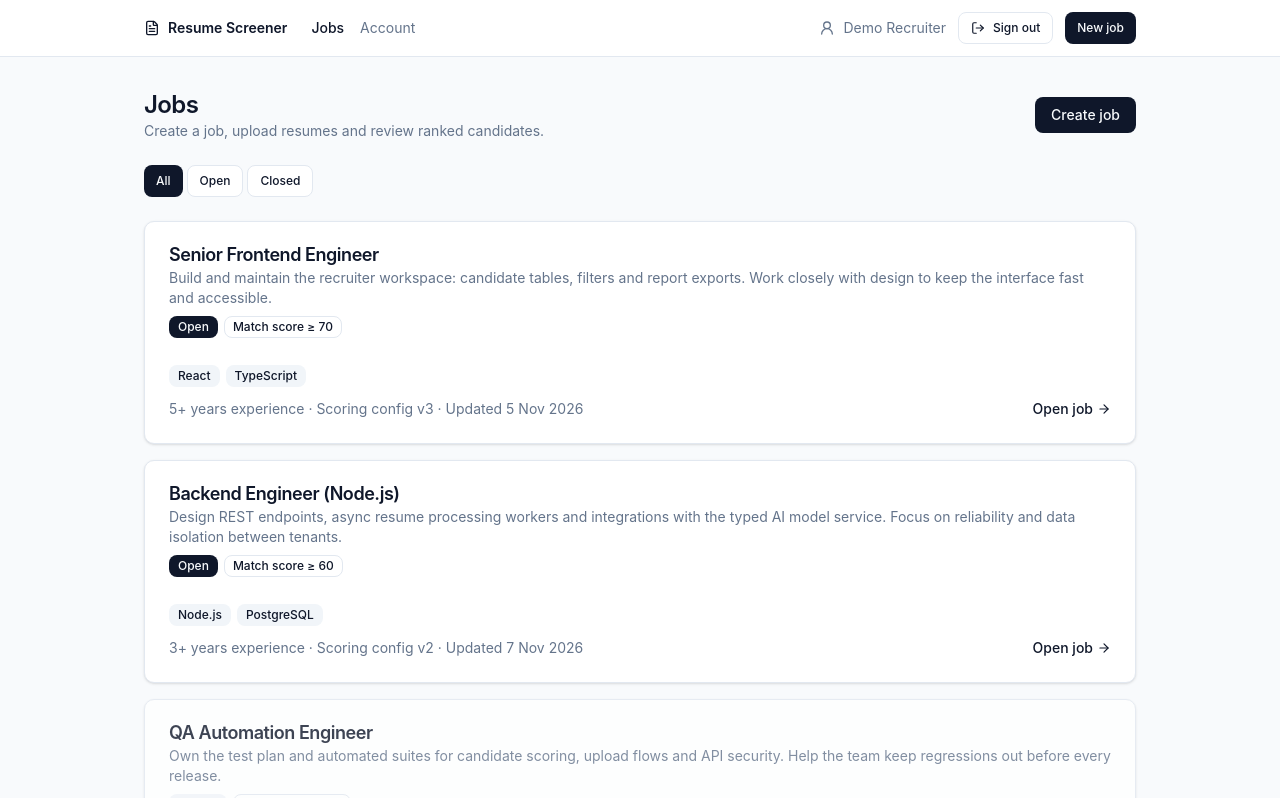
Test: job workflows › lists the seeded jobs and filters by status
This screenshot has width=1280, height=798.
Expected: the heading "Senior Frontend Engineer" is shown, x1=169 y1=244 x2=379 y2=265
Expected: the heading "Backend Engineer (Node.js)" is shown, x1=169 y1=483 x2=400 y2=504
Click the button "Closed" at (280, 181), box x1=248 y1=165 x2=314 y2=197
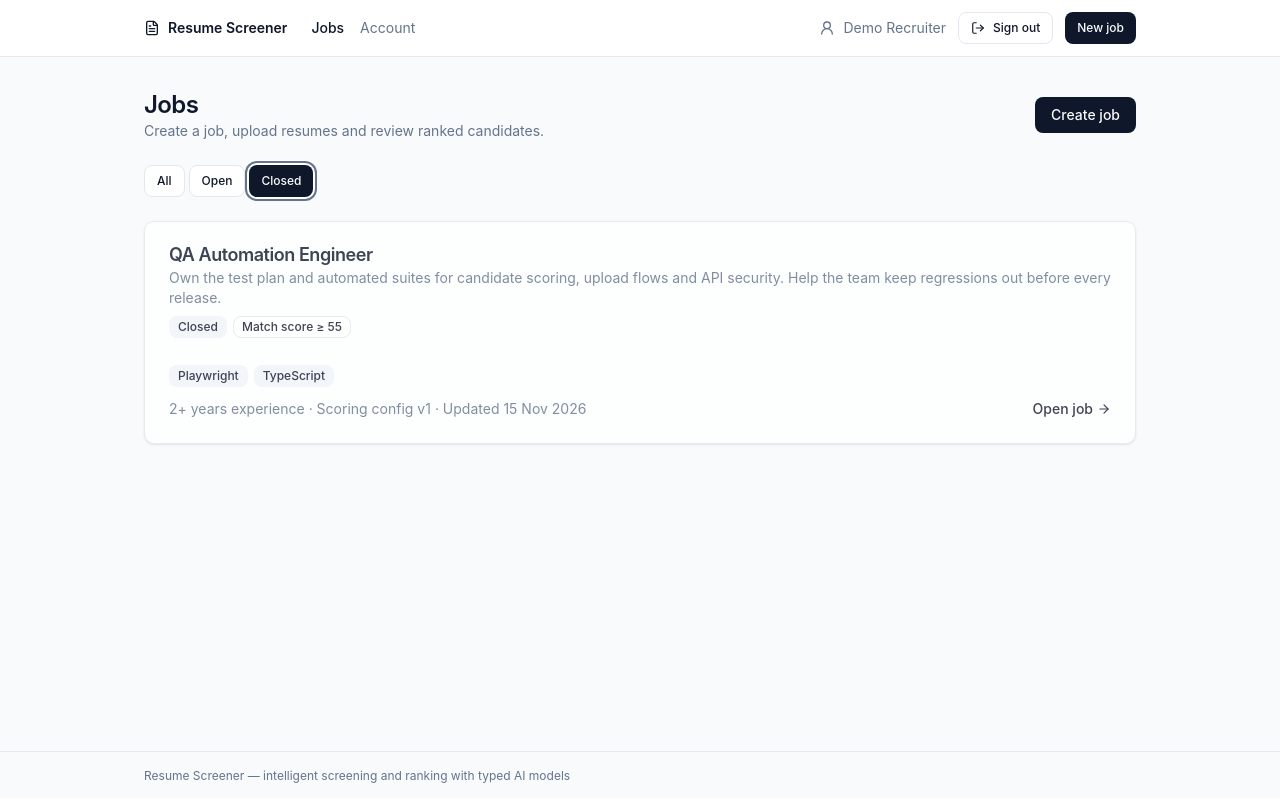
Expected: the heading "QA Automation Engineer" is shown, x1=169 y1=244 x2=373 y2=265
Expected: the link "Senior Frontend Engineer" is gone
